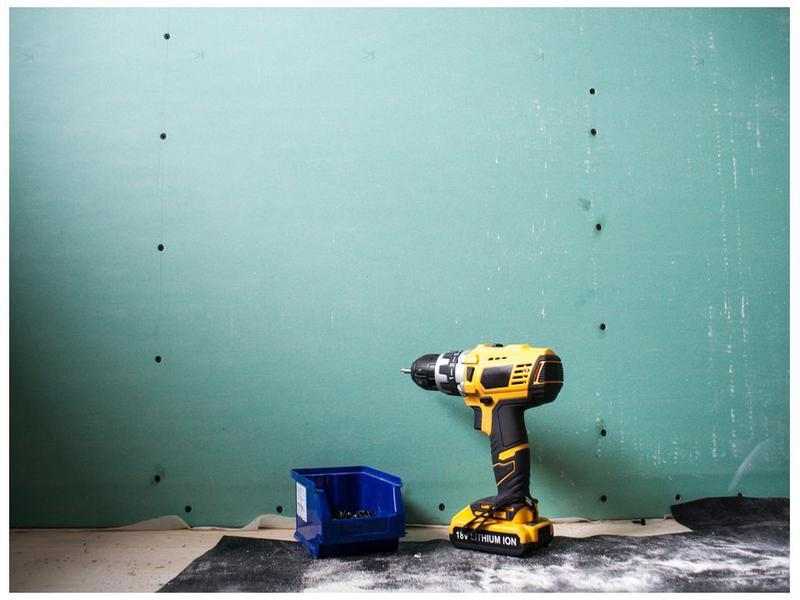hole: (597, 492, 609, 504), (155, 242, 167, 254), (158, 131, 170, 143), (735, 488, 746, 500), (275, 504, 286, 516), (593, 221, 604, 233), (436, 499, 446, 512), (152, 472, 163, 483), (598, 426, 608, 438), (597, 320, 607, 332), (183, 503, 193, 514), (587, 87, 597, 98), (154, 354, 164, 365), (671, 493, 683, 502), (588, 128, 598, 138), (162, 33, 172, 42)
